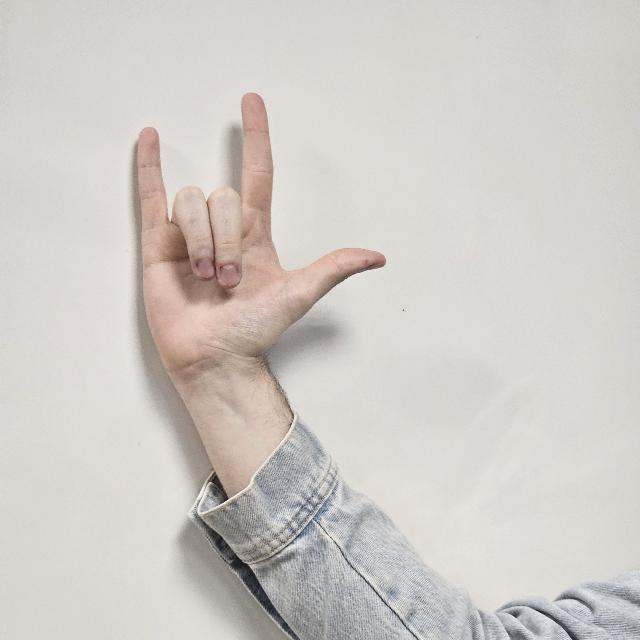Cima: (128, 93, 386, 381)
